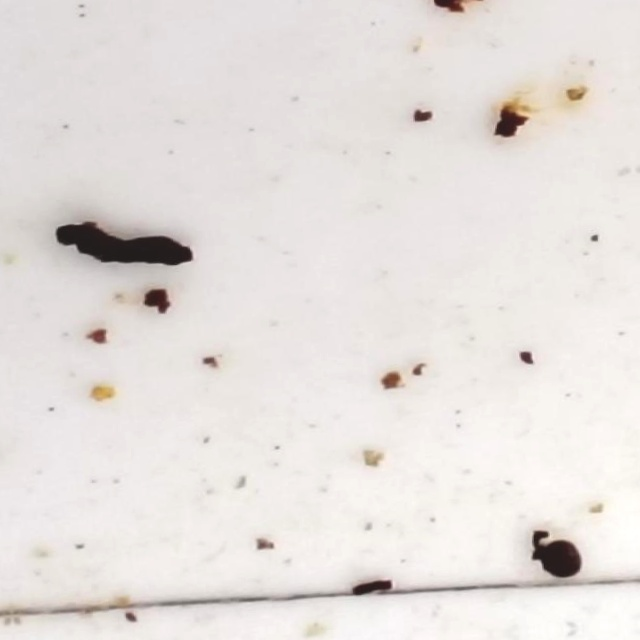varroa: (537, 538, 591, 583)
